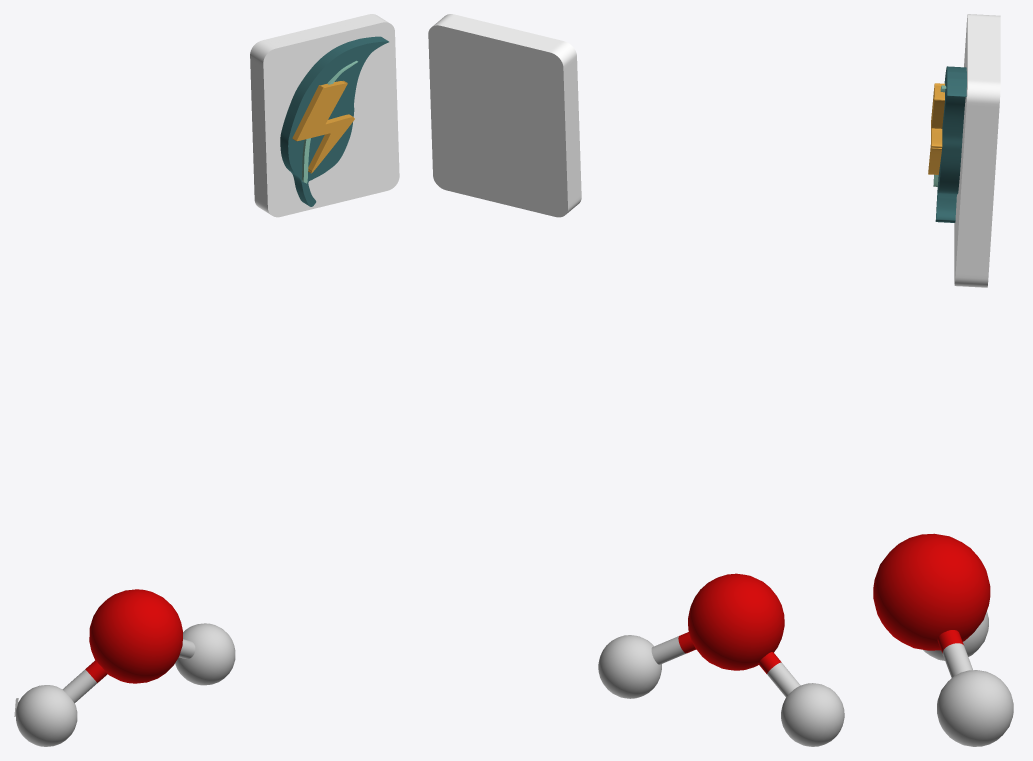
The model's file is agua_yaku.glb.
3 renders of one model, left to right at view 1: azimuth 30°, elevation 25°; view 2: azimuth 150°, elevation 25°; view 3: azimuth 270°, elevation 25°, orthographic. The views are drawn at different scales.
Parts seen in each view (by area): view 1: path182, agua_vmd, path184, path188; view 2: path182, agua_vmd; view 3: agua_vmd, path182, path184, path188.
Part boxes in pixels (<box>): path182: <box>250,14,399,217</box>; agua_vmd: <box>16,589,235,746</box>; path184: <box>280,36,388,206</box>; path188: <box>292,80,354,173</box>; path182: <box>428,14,581,217</box>; agua_vmd: <box>598,573,844,746</box>; agua_vmd: <box>873,533,1013,746</box>; path182: <box>954,14,1000,287</box>; path184: <box>935,66,966,222</box>; path188: <box>928,83,944,174</box>.
Size of the model in its own units: 4.14 by 6.55 by 1.1.
